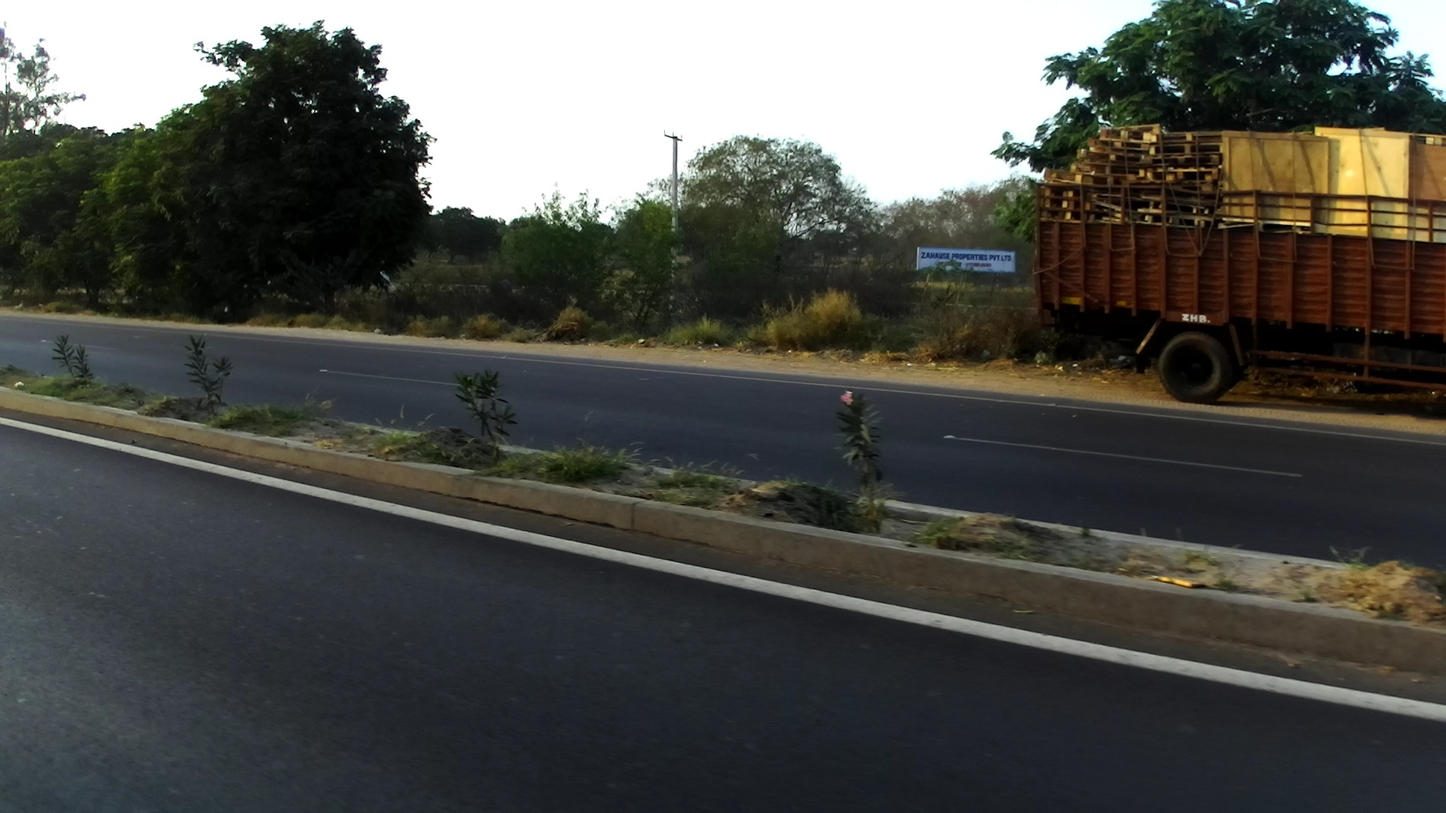truck: (1030, 125, 1446, 398)
